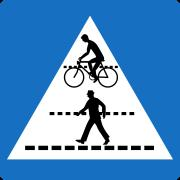Cycle Crossing: (19, 87, 164, 172)
